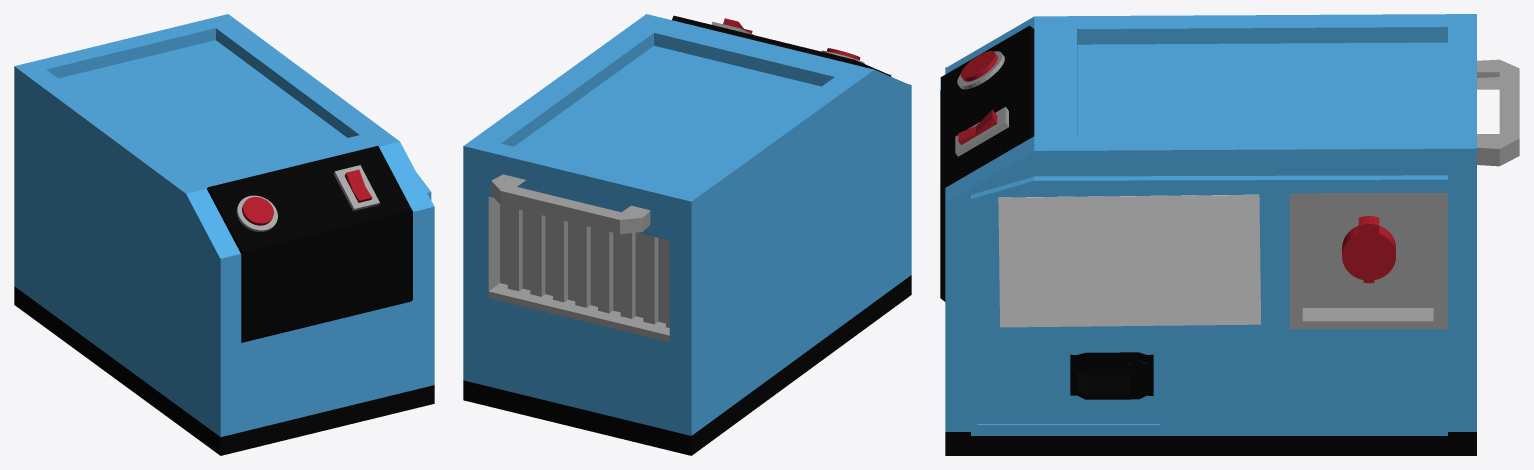
File: Genertaor.fbx
The picture shows the model from 3 angles, left to right: view 1: azimuth 30°, elevation 25°; view 2: azimuth 150°, elevation 25°; view 3: azimuth 270°, elevation 25°; orthographic projection. The views are drawn at different scales.
Parts seen in each view (by area): view 1: Cube, Cube.003, Cylinder.001, Cylinder.002, Cube.002; view 2: Cube, Cube.001; view 3: Cube, Cube.004, Cube.001, Cylinder, Cube.003, Cylinder.001.
Part boxes in pixels (x1=…): Cube: x1=14, y1=14, x2=434, y2=455; Cube.003: x1=333, y1=165, x2=379, y2=211; Cylinder.001: x1=242, y1=197, x2=273, y2=225; Cylinder.002: x1=236, y1=195, x2=277, y2=231; Cube.002: x1=344, y1=169, x2=372, y2=202; Cube: x1=463, y1=14, x2=911, y2=455; Cube.001: x1=491, y1=174, x2=650, y2=234; Cube: x1=940, y1=14, x2=1476, y2=455; Cube.004: x1=998, y1=194, x2=1260, y2=327; Cube.001: x1=1477, y1=59, x2=1519, y2=166; Cylinder: x1=1342, y1=216, x2=1395, y2=283; Cube.003: x1=955, y1=106, x2=1008, y2=156; Cylinder.001: x1=960, y1=51, x2=997, y2=81.
Bounding box in the file's own units: 207 × 214 × 364.
